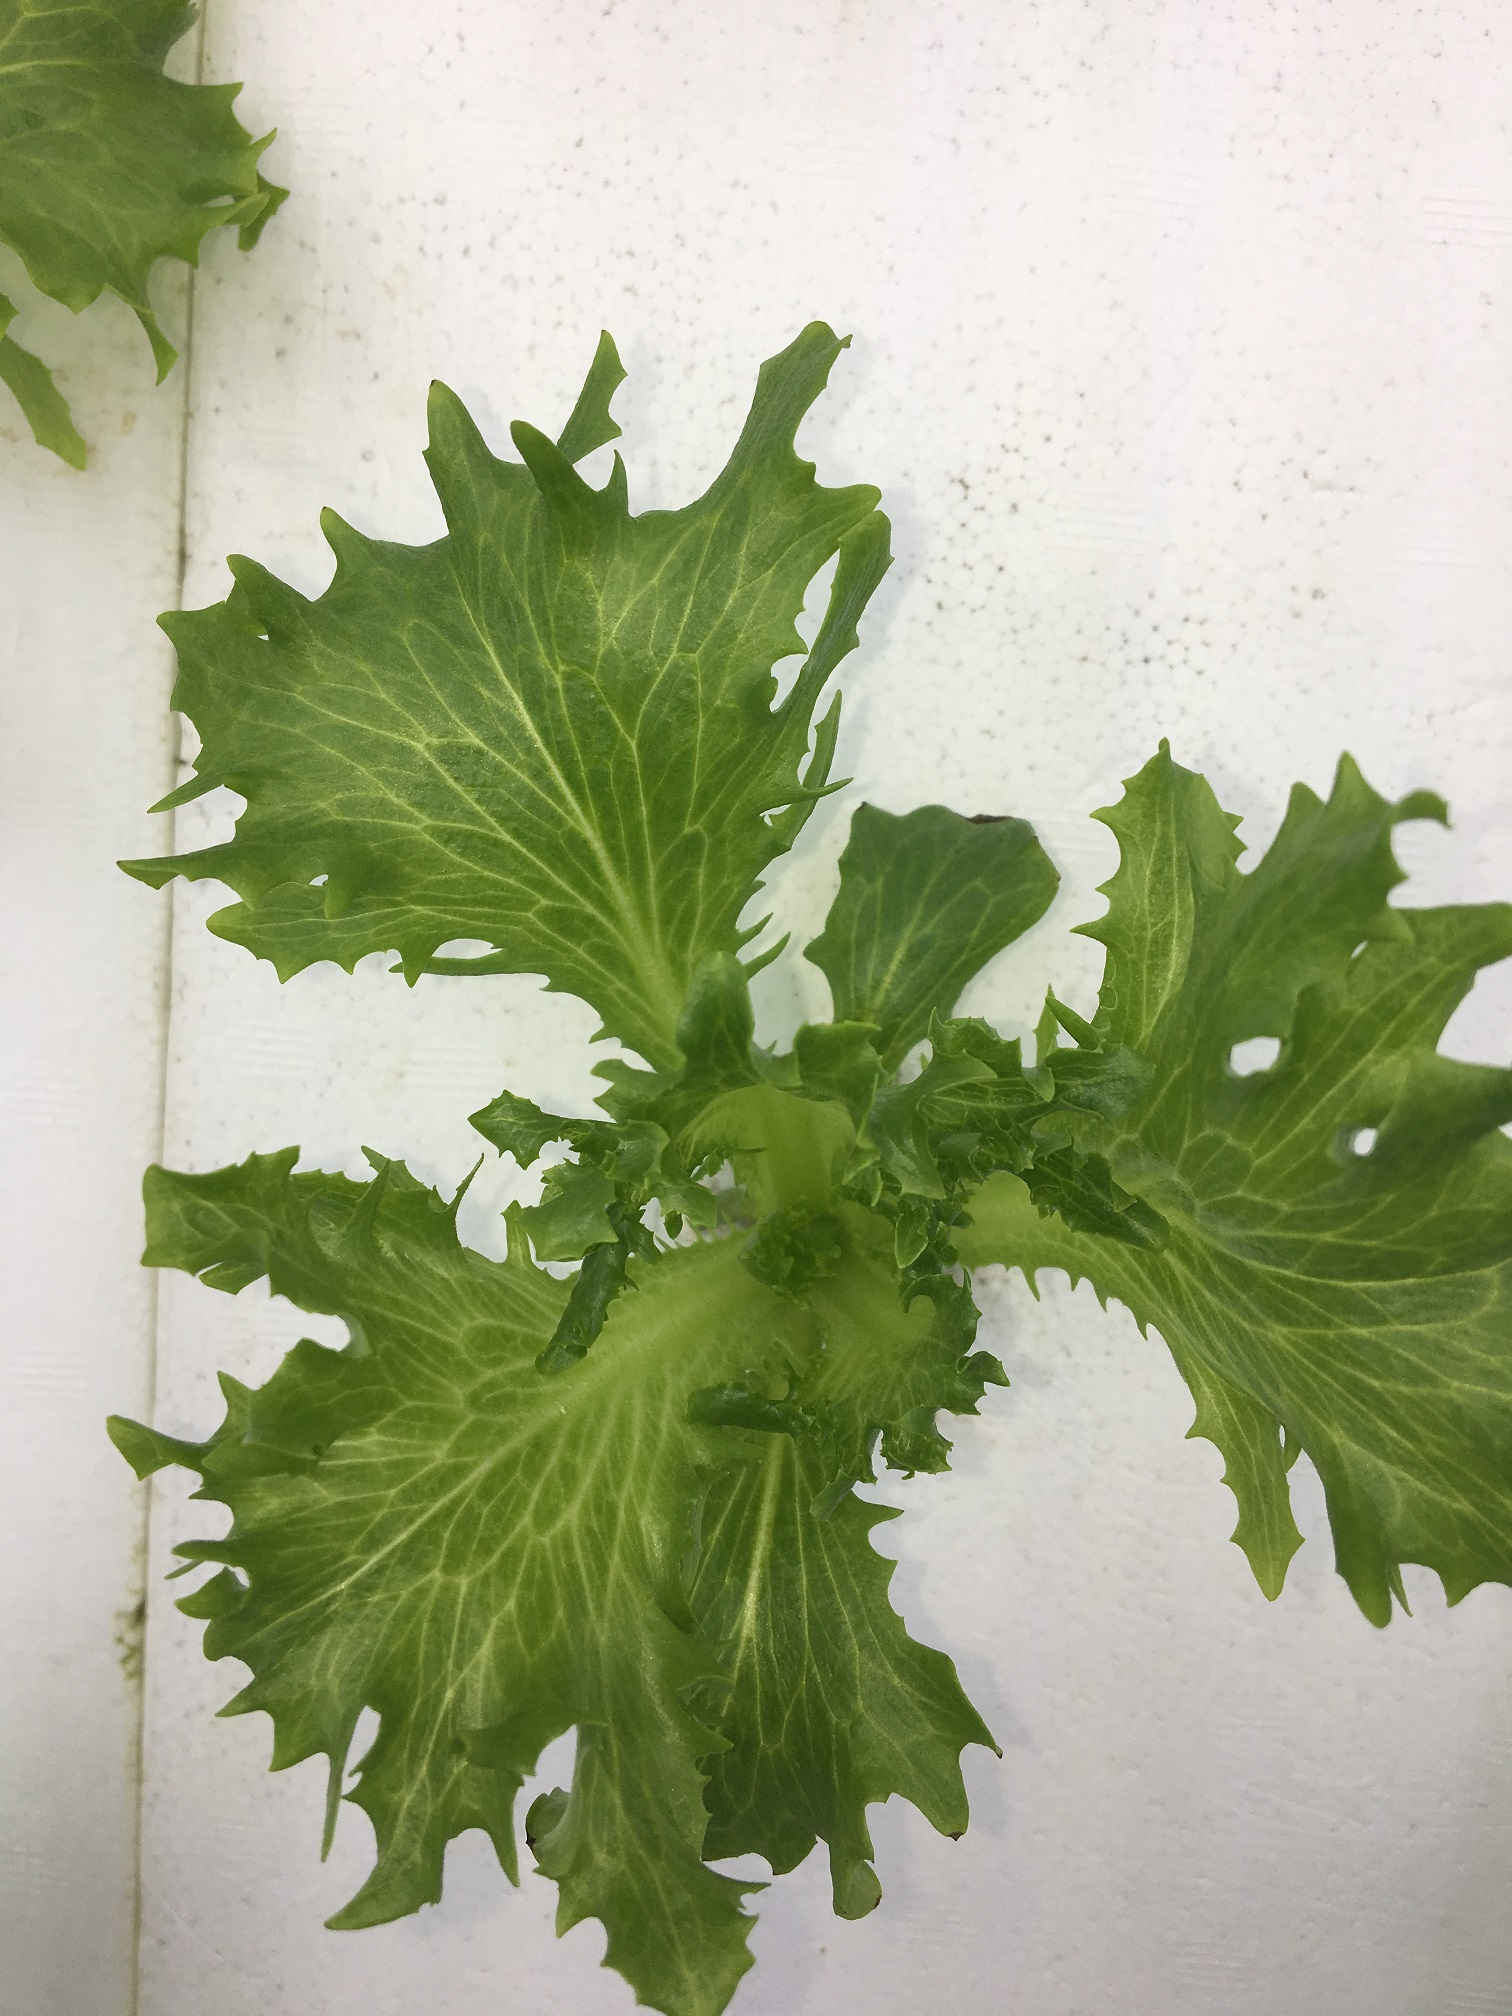tipburn: (966, 779, 1012, 837), (1043, 860, 1083, 903), (416, 360, 456, 402), (1023, 818, 1058, 856), (939, 1824, 982, 1854), (851, 786, 886, 814)
